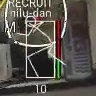hacks_1: (8, 1, 68, 94)
